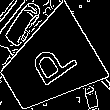P_SW: (20, 36, 78, 94)
